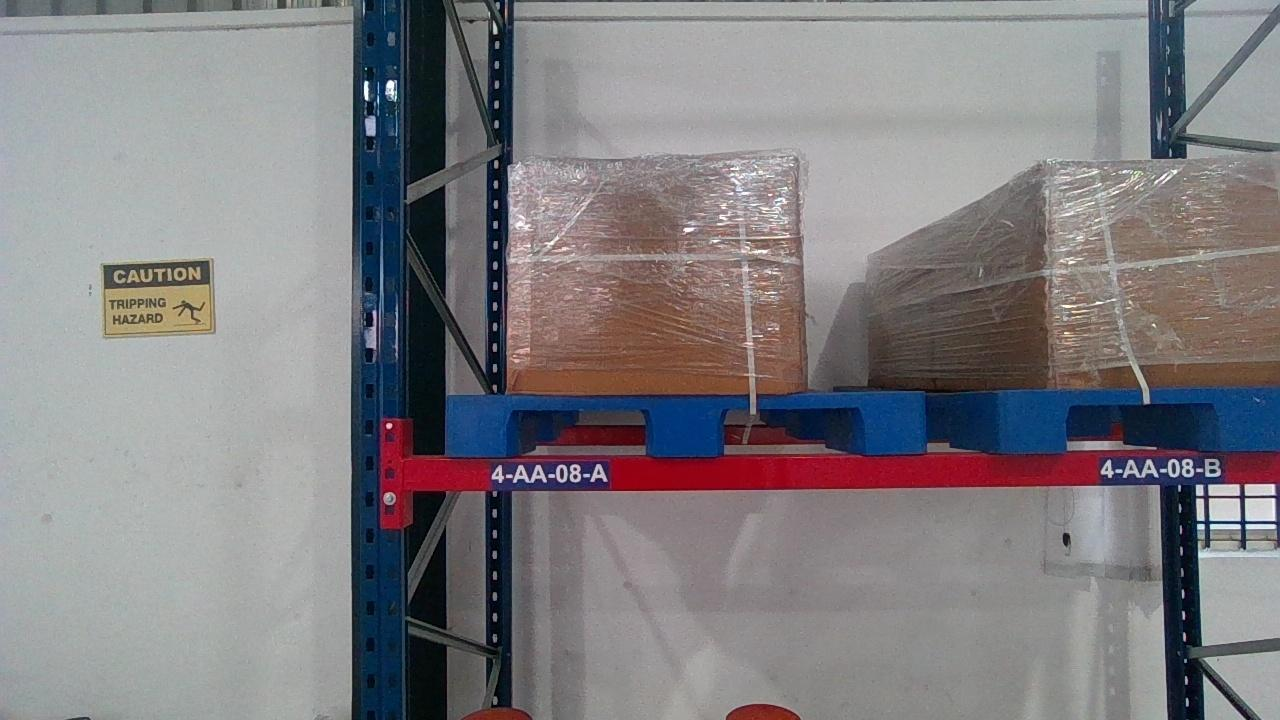h_rack: (406, 453, 1277, 489)
small_pallet: (443, 392, 926, 453), (997, 387, 1277, 447)
